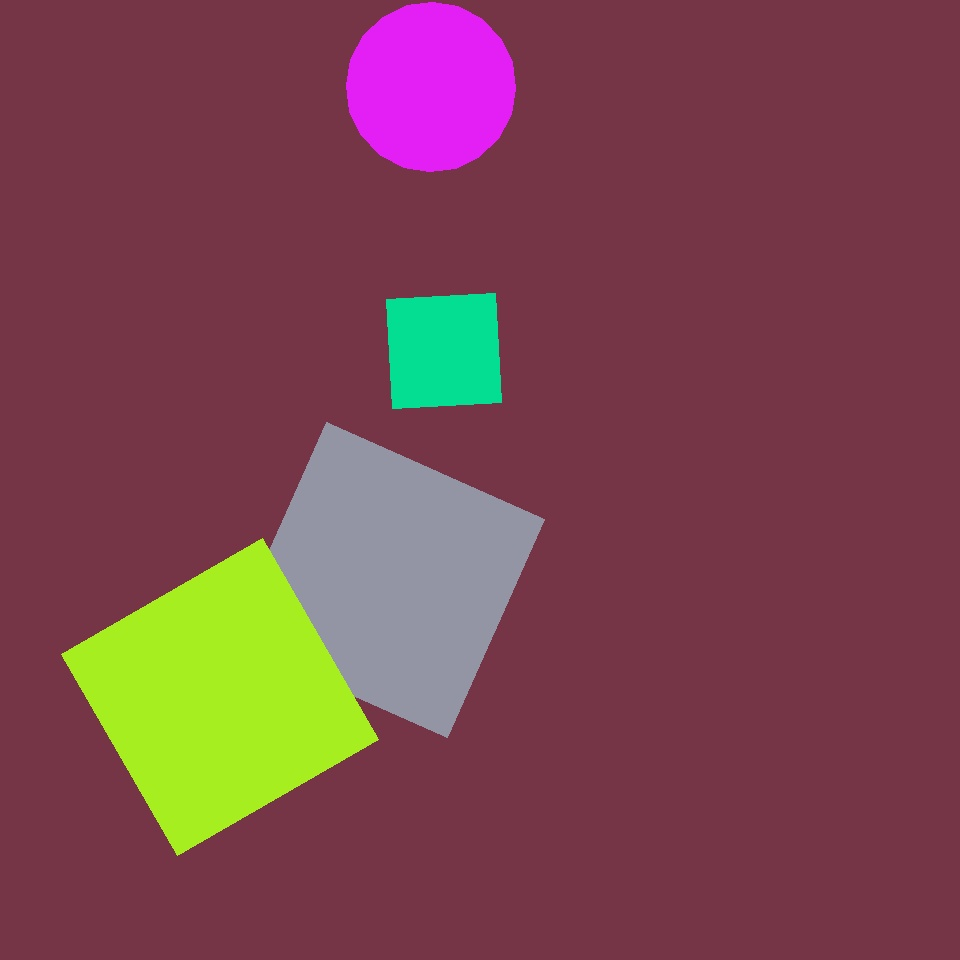square: (61, 539, 378, 856), (230, 422, 544, 738), (304, 197, 552, 444), (387, 294, 502, 408)
triangle: (297, 66, 479, 249), (346, 2, 516, 172), (114, 395, 212, 492)
